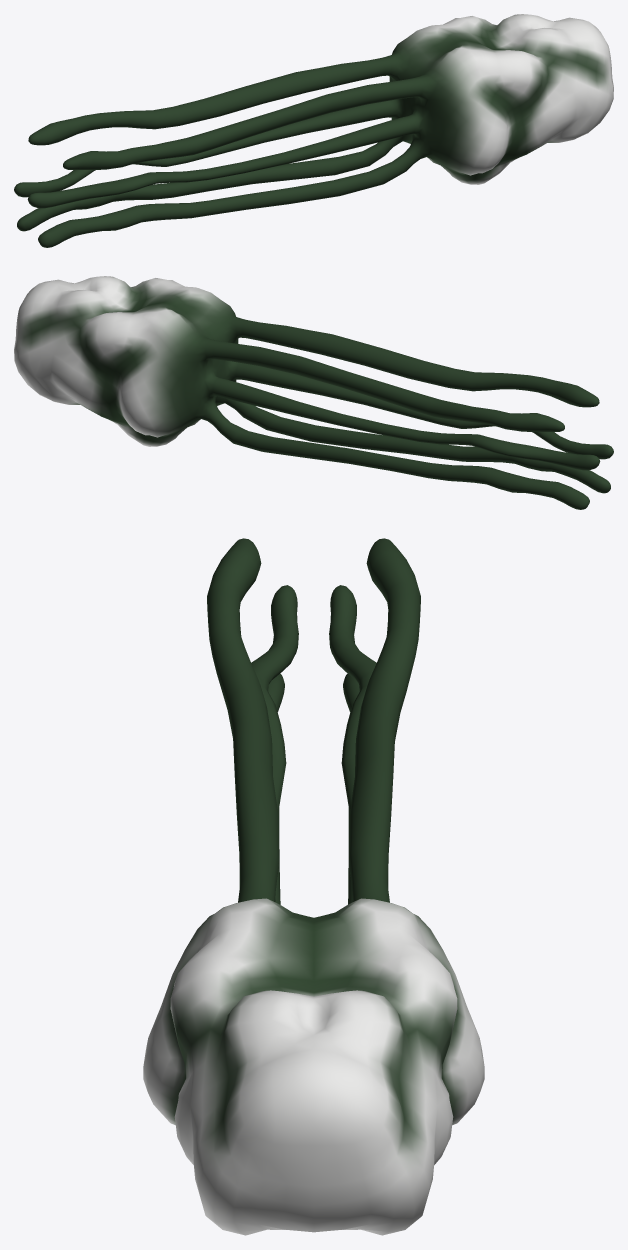
Rendered from Enemy_Test_01.fbx.
3 renders of one model, top to bottom at view 1: azimuth 30°, elevation 25°; view 2: azimuth 150°, elevation 25°; view 3: azimuth 270°, elevation 25°, orthographic. The views are drawn at different scales.
Visible parts, largest first — view 1: Enemy_Test_01; view 2: Enemy_Test_01; view 3: Enemy_Test_01.
Part boxes in pixels (x1,y1,x2,y2): Enemy_Test_01: (14, 14, 613, 247); Enemy_Test_01: (14, 276, 613, 509); Enemy_Test_01: (143, 538, 484, 1235).
Bounding box in the file's own units: 217 × 49.07 × 55.23.
Materials: 1 (1 with a texture image).
